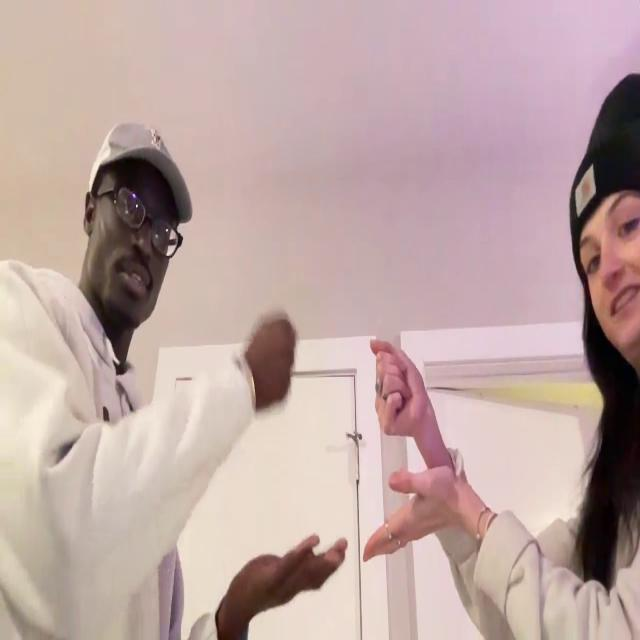Rock: (372, 339, 428, 442), (249, 311, 298, 407)
